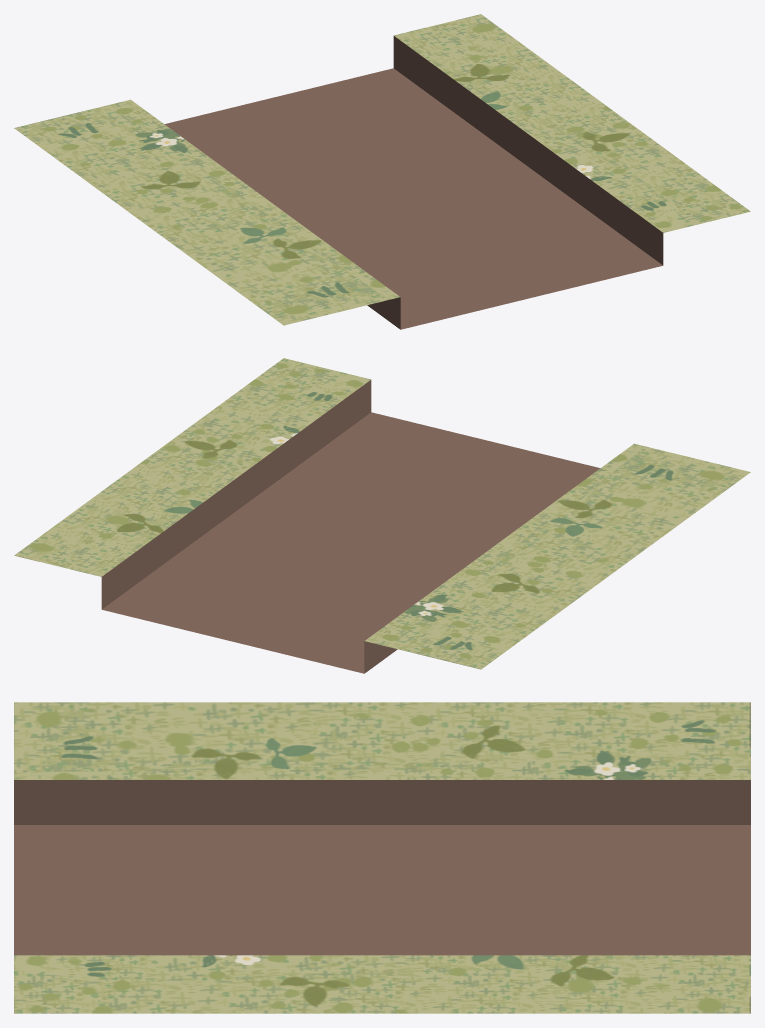
File: map_droad.fbx
The picture shows the model from 3 angles, top to bottom: view 1: azimuth 30°, elevation 25°; view 2: azimuth 150°, elevation 25°; view 3: azimuth 270°, elevation 25°; orthographic projection. The views are drawn at different scales.
Visible parts, largest first — view 1: Plane.006, Plane.005; view 2: Plane.006, Plane.005; view 3: Plane.006, Plane.005.
Part boxes in pixels (x1,y1,x2,y2): Plane.006: [164, 36, 663, 329]; Plane.005: [14, 14, 750, 325]; Plane.006: [101, 380, 600, 673]; Plane.005: [14, 358, 750, 669]; Plane.006: [14, 780, 750, 955]; Plane.005: [14, 702, 750, 1013].
Bounding box in the file's own units: 200 × 13.39 × 200.
2 materials, 1 textured.
